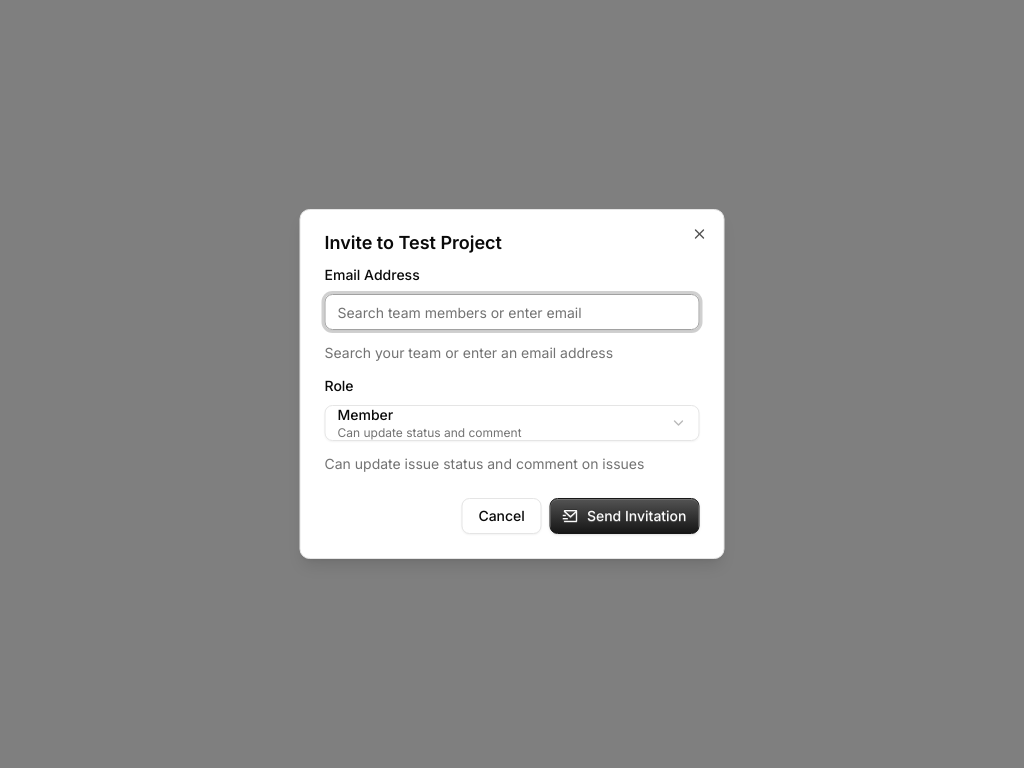
Test: ProjectInvitationDialog › Email validation › should show error for empty email on submit
Click the button "Send Invitation". click: (625, 516)
box: [550,498,700,534]
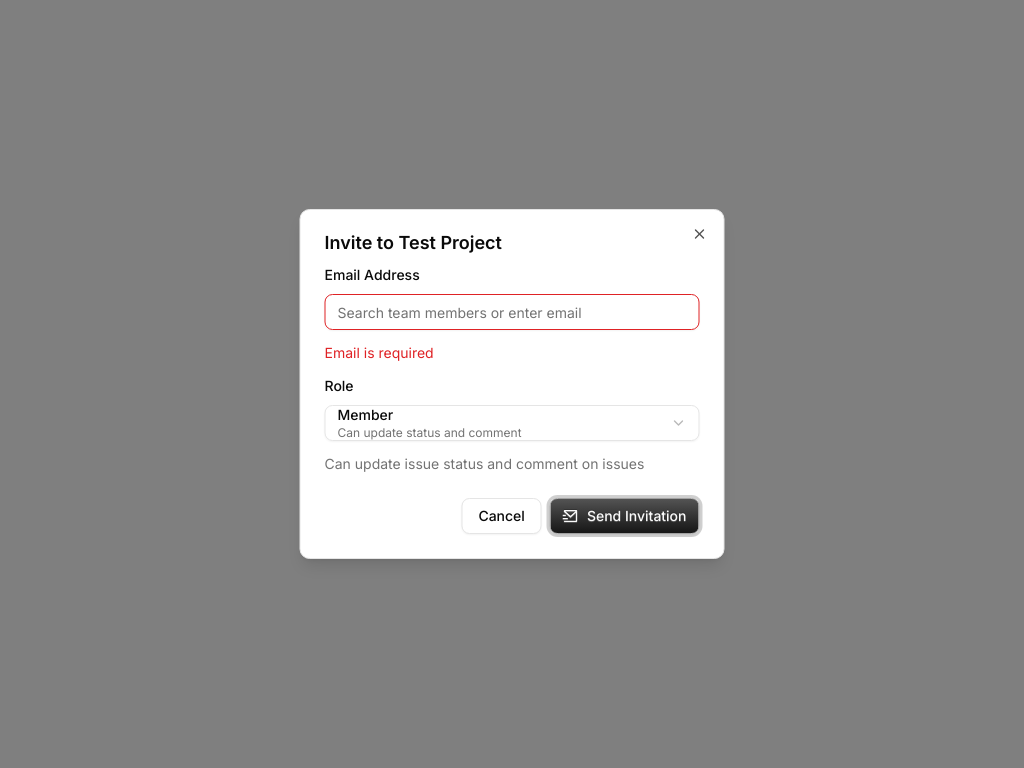
Expected: the text "Email is required" is shown, [324,344,434,361]
